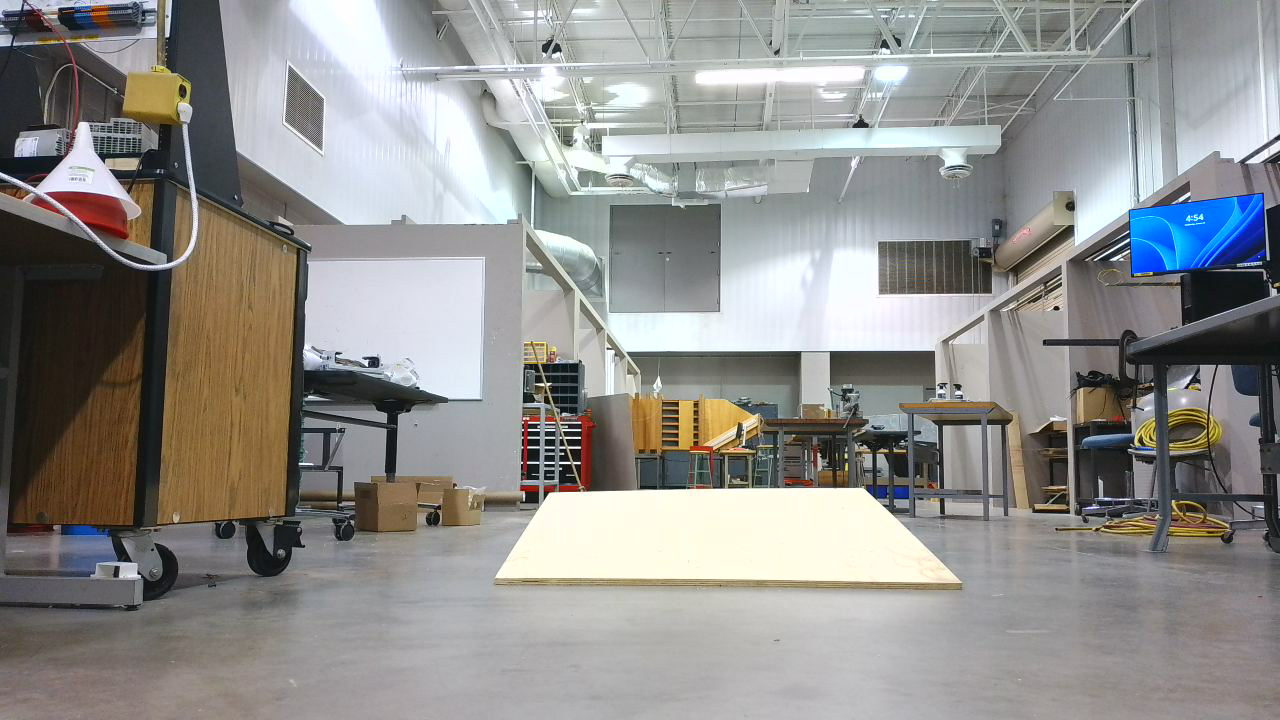ramp: (493, 488, 982, 599)
